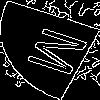M: (24, 25, 100, 82)
